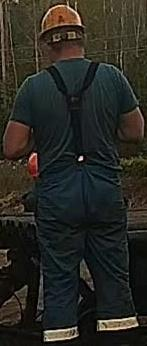helmet: (37, 3, 86, 38)
